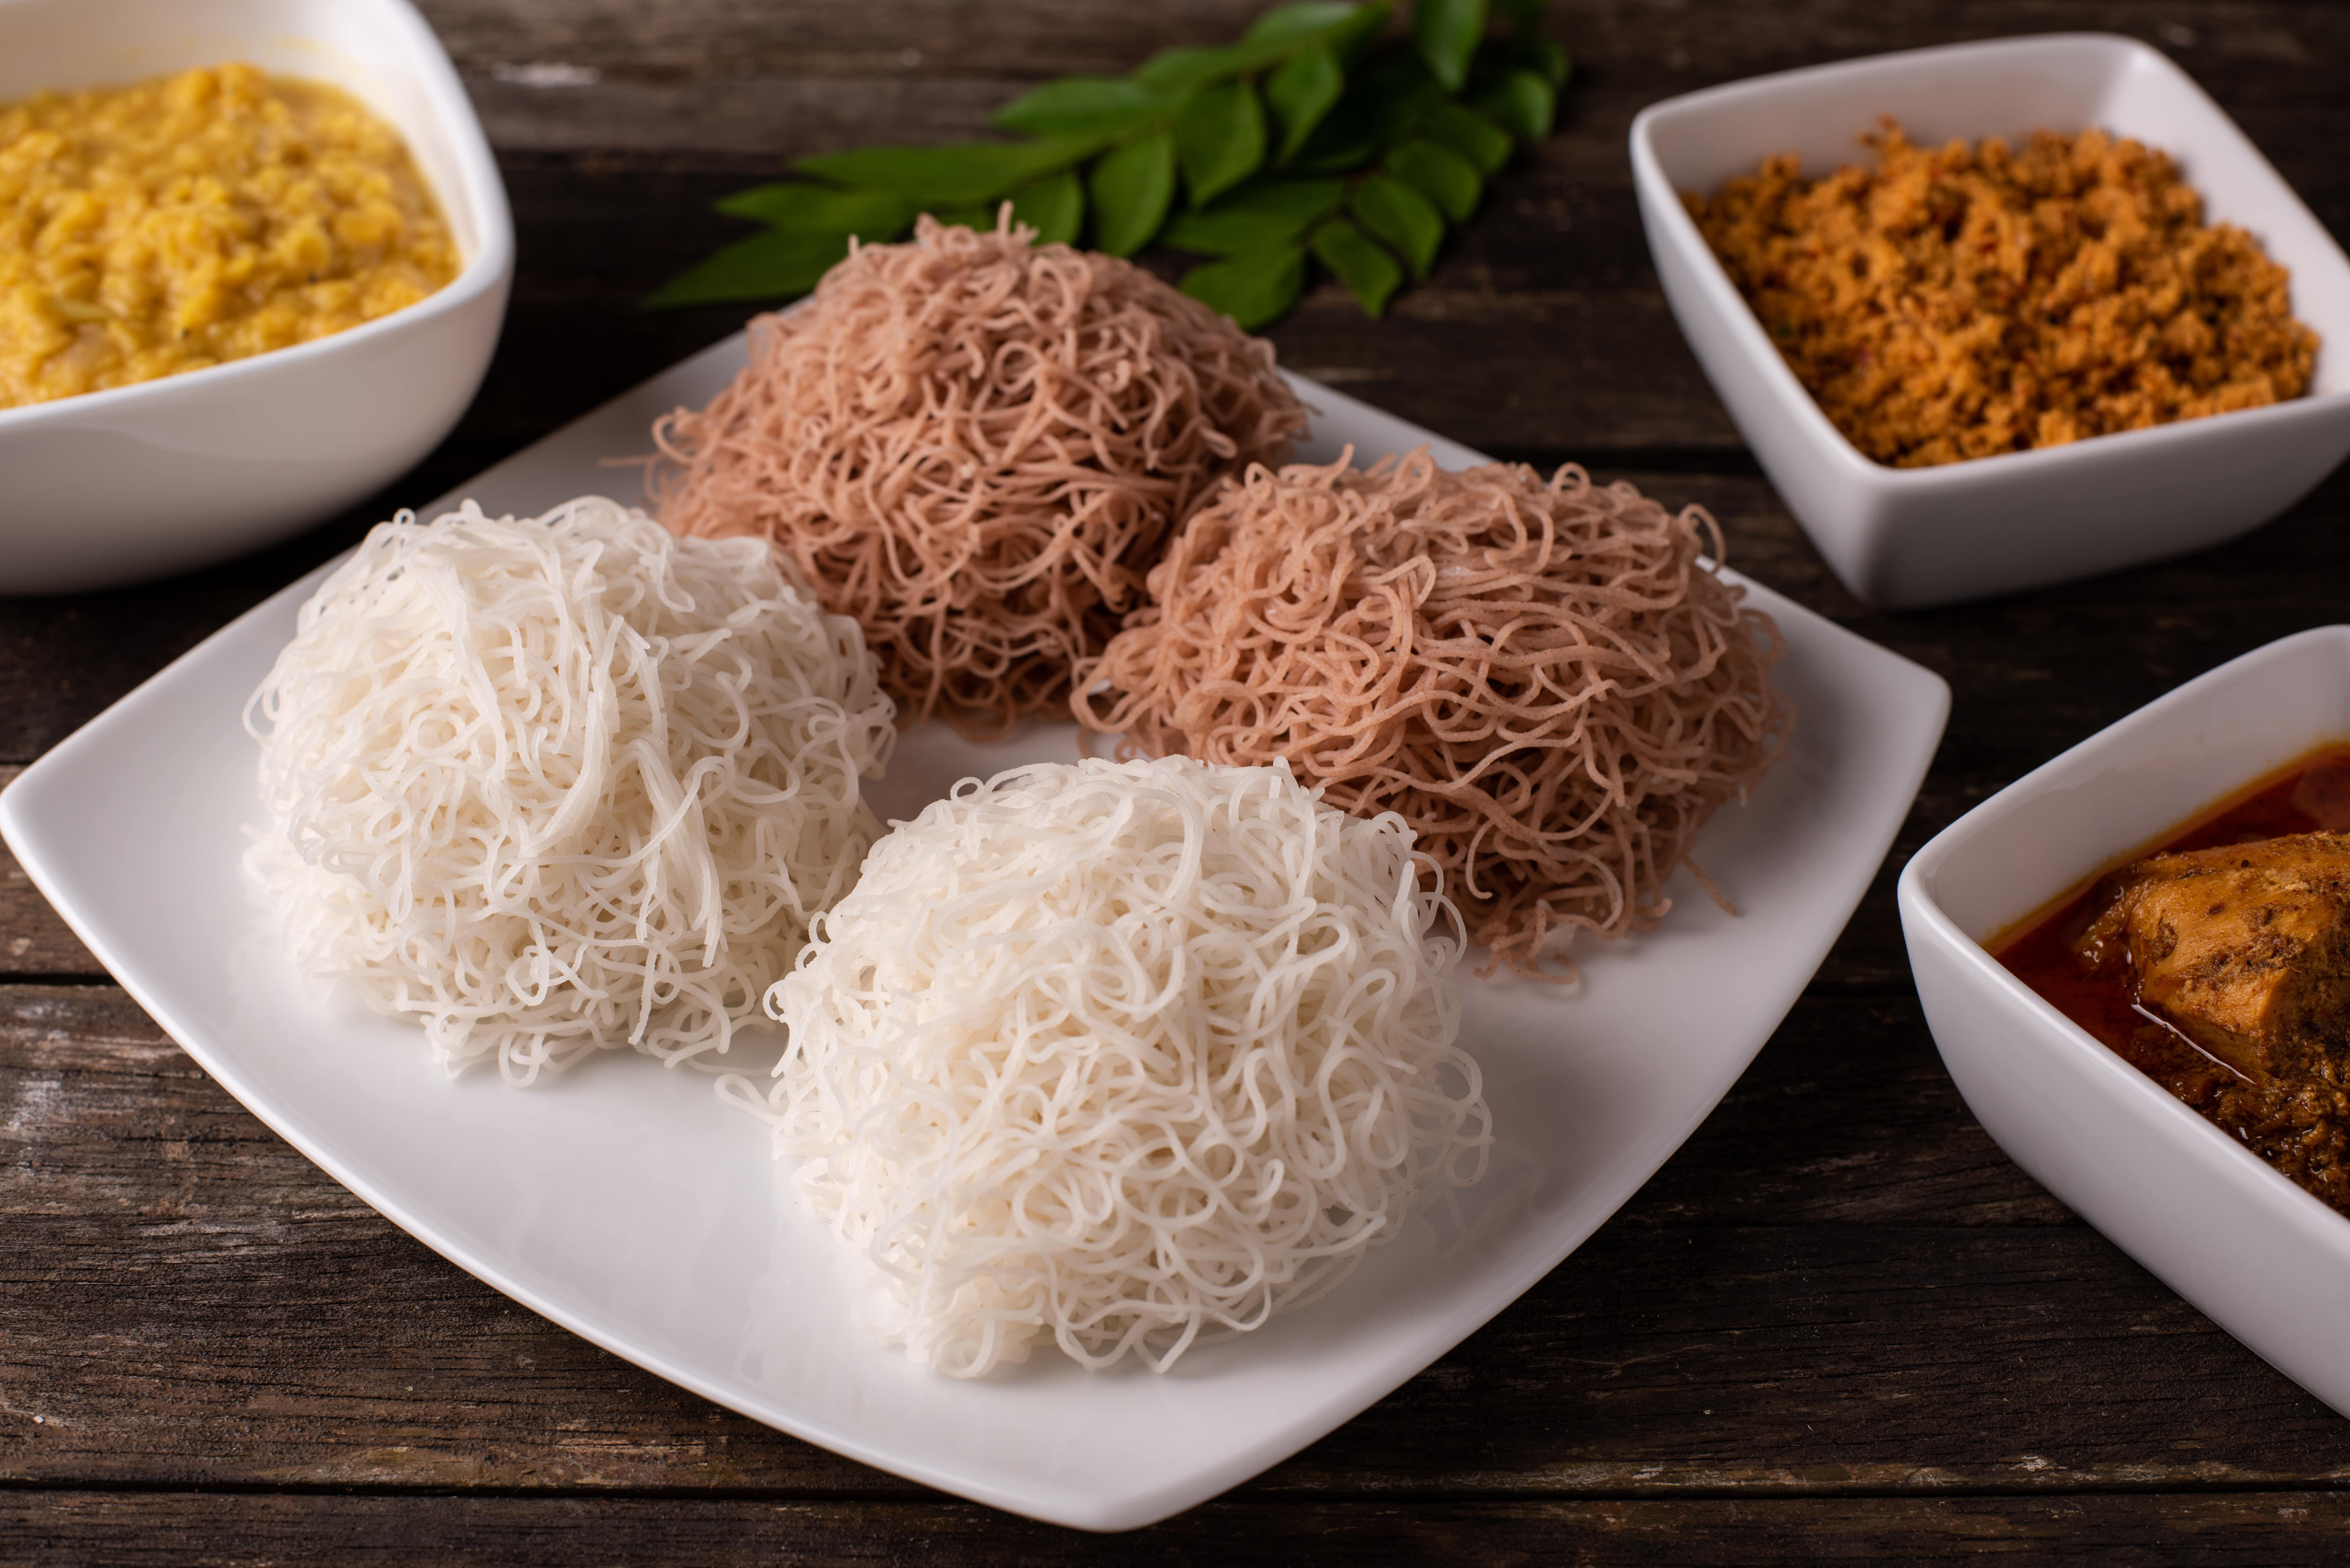String Hoppers: (262, 208, 1774, 1515)
